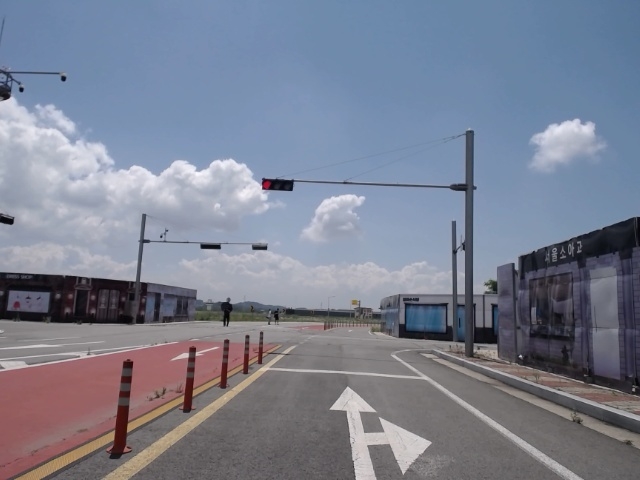red_3: (261, 178, 294, 190)
